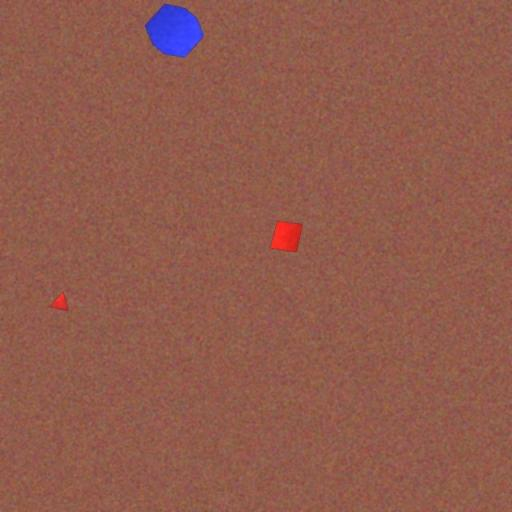RED_SQUARE: (270, 220, 303, 253)
